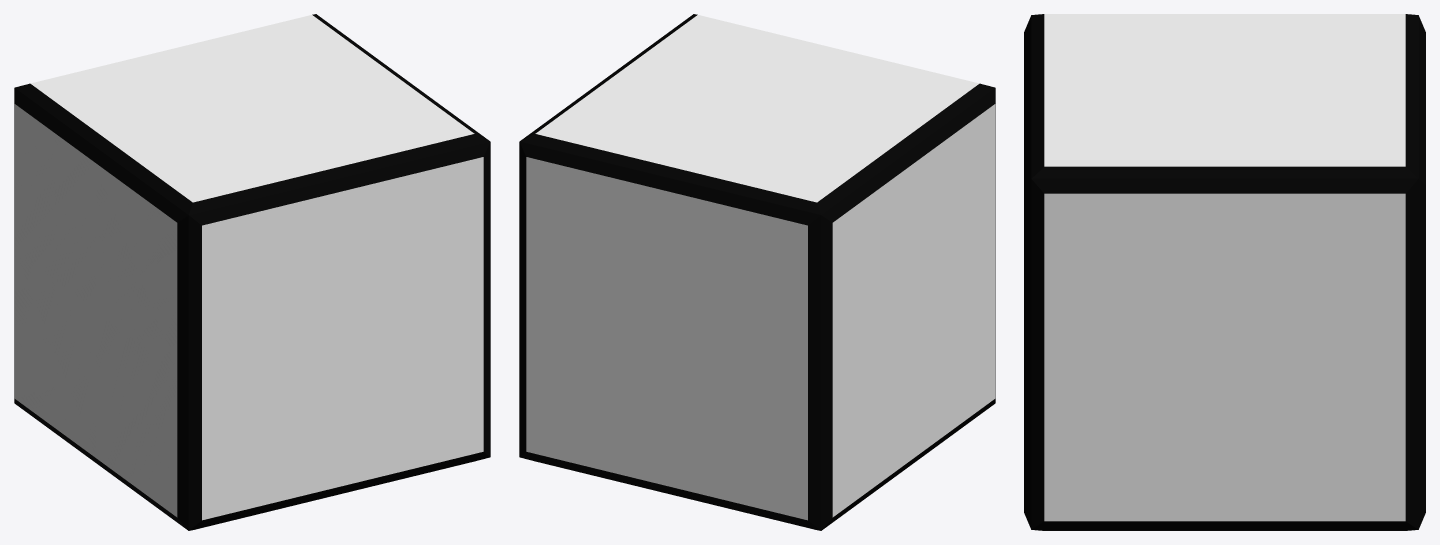
File: tiny_cube.fbx
3 renders of one model, left to right at view 1: azimuth 30°, elevation 25°; view 2: azimuth 150°, elevation 25°; view 3: azimuth 270°, elevation 25°, orthographic. The views are drawn at different scales.
Parts seen in each view (by area): view 1: Cube; view 2: Cube; view 3: Cube.
Part boxes in pixels (x1,y1,x2,y2): Cube: [14, 14, 490, 530]; Cube: [519, 14, 995, 530]; Cube: [1024, 14, 1425, 530].
Bounding box in the file's own units: 200 × 200 × 200.
